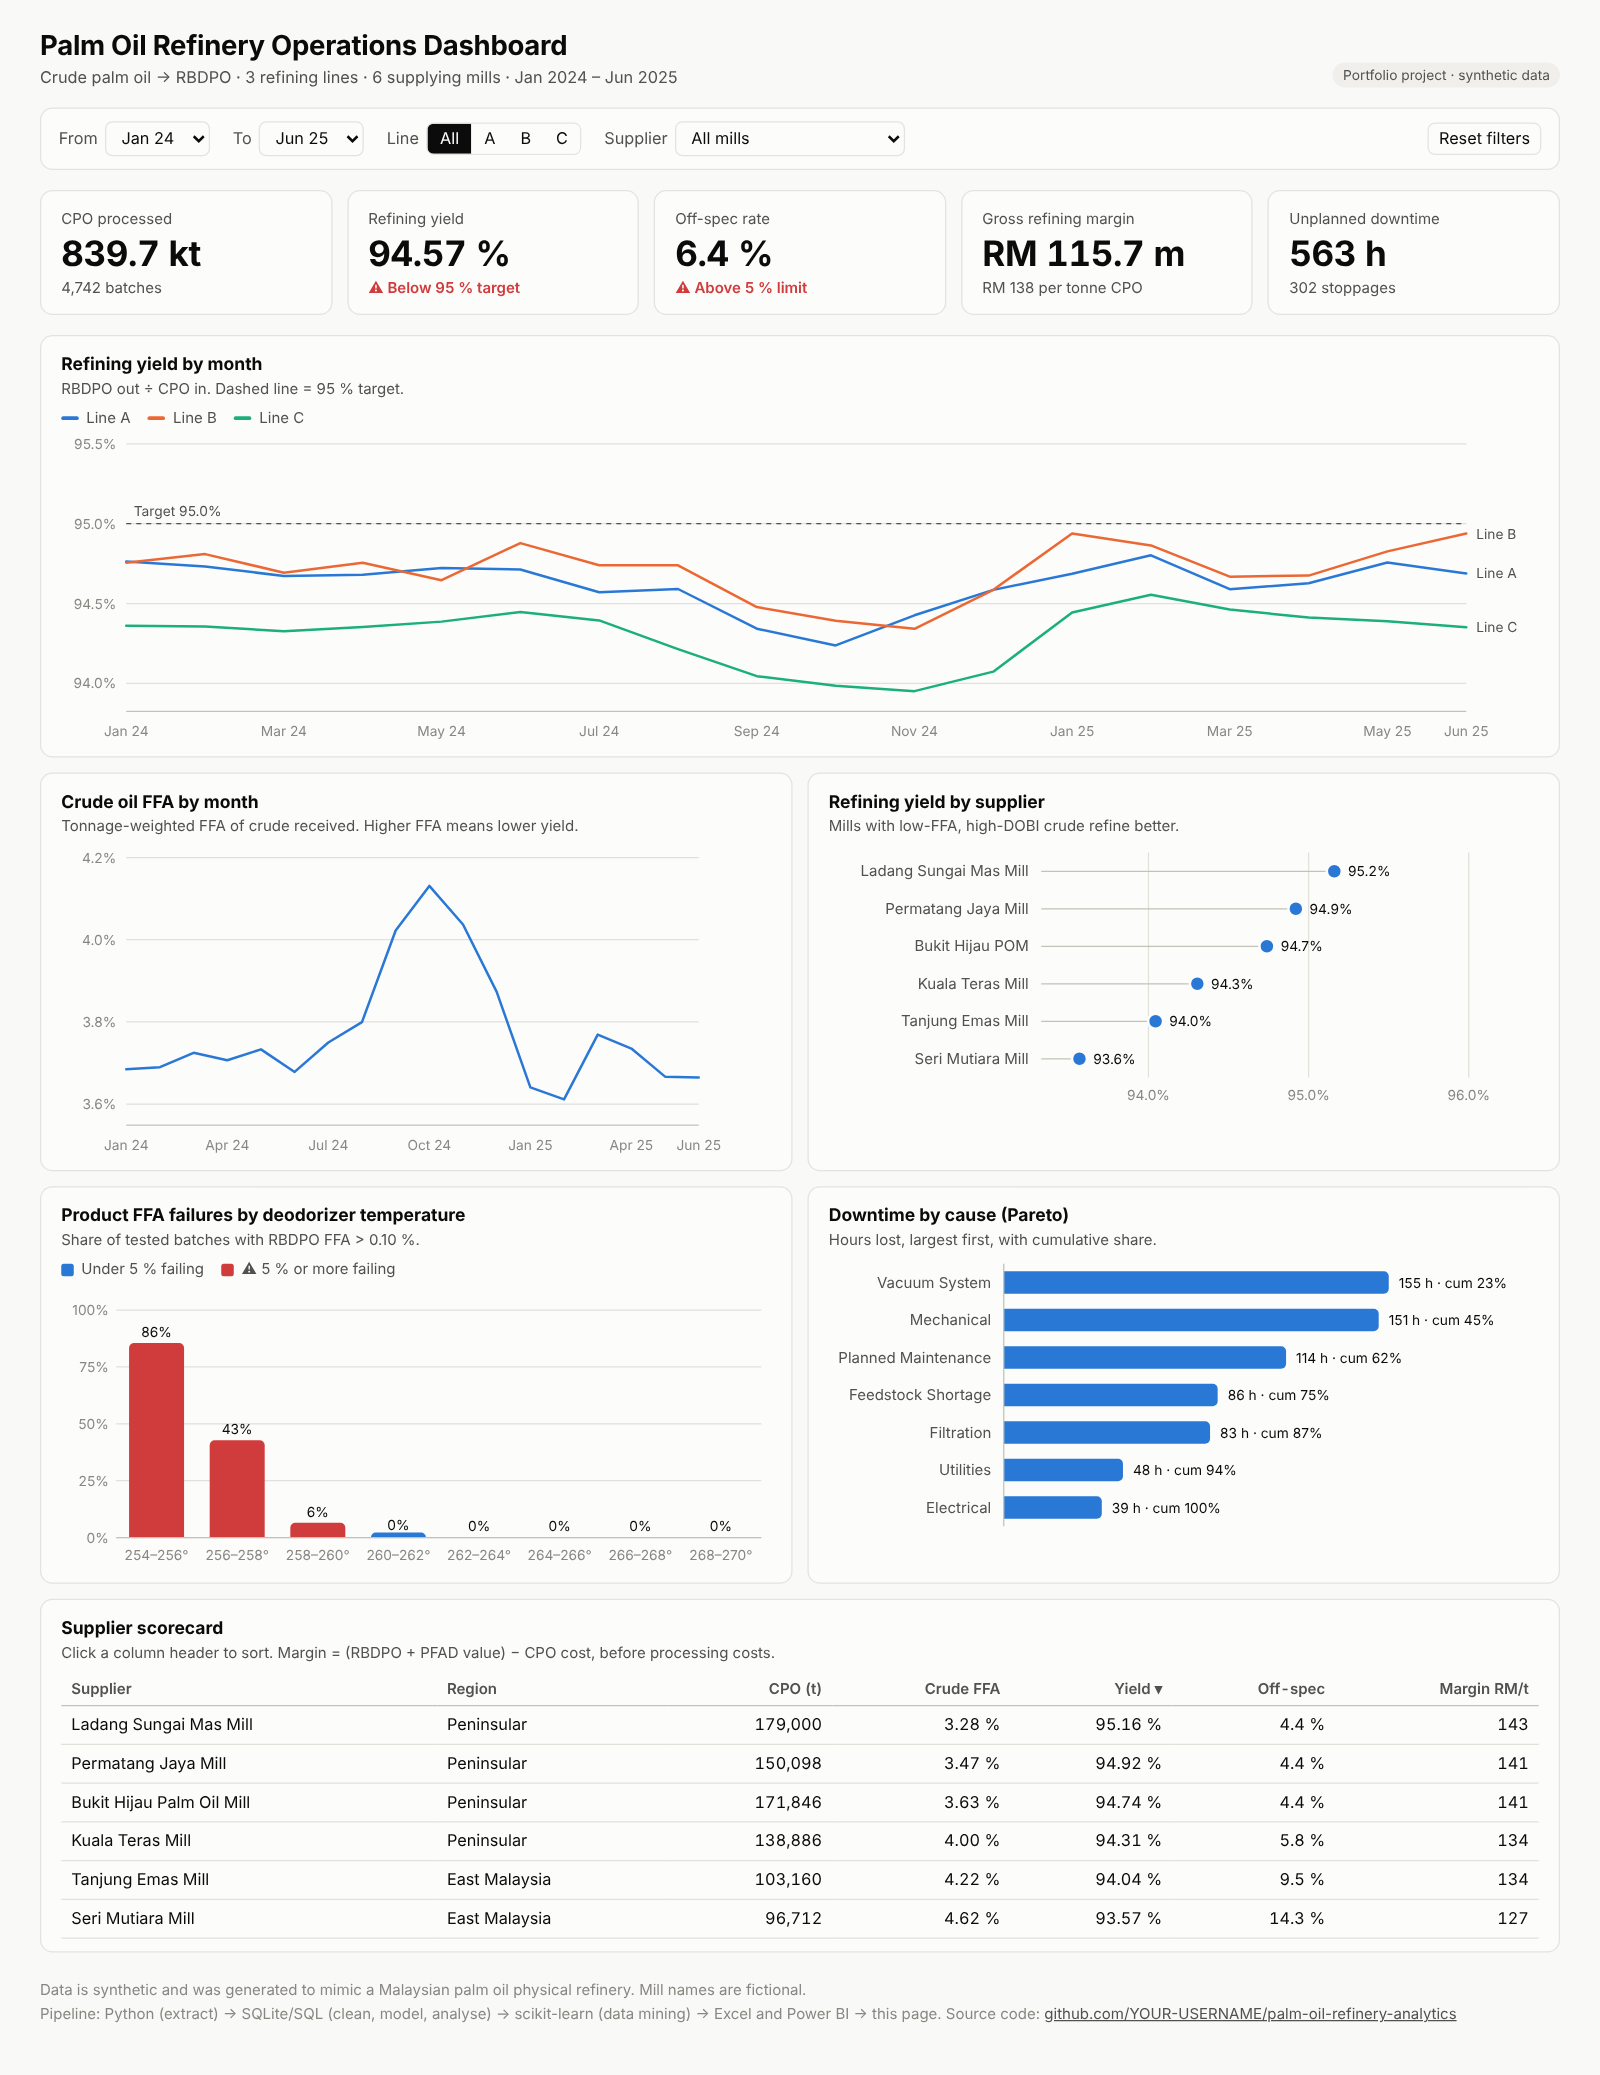

The page's visual inventory and layout, read from the dashboard file:
{"tool":"powerbi","page":{"name":"Executive Overview","canvas":[1920,1080],"ordinal":0},"visuals":[{"type":"slicer","fields":{"Values":["dim_date.date_key"]},"box":[32.4,194.6,327,175.7],"z":0},{"type":"slicer","fields":{"Values":["dim_line.line_name"]},"box":[32.4,405.4,327,278.4],"z":1000},{"type":"slicer","fields":{"Values":["dim_supplier.supplier_name"]},"box":[32.4,716.2,327,364.9],"z":2000},{"type":"cardVisual","fields":{"Data":["_Measures.CPO Processed (t)"]},"box":[32.4,0,327,167.6],"z":3000},{"type":"cardVisual","fields":{"Data":["_Measures.Unplanned Downtime Hours"]},"box":[1556.8,0,337.8,167.6],"z":4000},{"type":"cardVisual","fields":{"Data":["_Measures.Refining Yield %"]},"box":[413.5,0,327,167.6],"z":5000},{"type":"cardVisual","fields":{"Data":["_Measures.Off-spec Rate %"]},"box":[794.6,0,327,167.6],"z":6000},{"type":"cardVisual","fields":{"Data":["_Measures.Gross Refining Margin (MYR)"]},"box":[1175.7,0,337.8,167.6],"z":7000},{"type":"lineChart","title":"Yield dips in peak crop season; Line C always lowest","fields":{"Category":["dim_date.year_month"],"Series":["dim_line.line_name"],"Y":["_Measures.Refining Yield %"]},"box":[378.4,194.6,1516.2,489.2],"z":8000},{"type":"clusteredBarChart","title":"Only the lowest-FFA mill beats the 95 % yield target","fields":{"Category":["dim_supplier.supplier_name"],"Y":["_Measures.Yield vs Target (pts)"]},"box":[378.4,716.2,721.6,364.9],"z":9000},{"type":"clusteredBarChart","title":"Vacuum and mechanical faults lead downtime","fields":{"Category":["fact_downtime.category"],"Y":["_Measures.Downtime Hours"]},"box":[1137.8,716.2,756.8,364.9],"z":10000}]}

Visuals, with their boxes on the page's 1920x1080 design canvas (x1, y1, x2, y2). These are canvas units, not pixel positions in the 1600x2075 screenshot, which may show the page scaled, cropped or inside an application window:
slicer - dim_date.date_key: locate(32, 195, 359, 370)
slicer - dim_line.line_name: locate(32, 405, 359, 684)
slicer - dim_supplier.supplier_name: locate(32, 716, 359, 1081)
cardVisual - _Measures.CPO Processed (t): locate(32, 0, 359, 168)
cardVisual - _Measures.Unplanned Downtime Hours: locate(1557, 0, 1895, 168)
cardVisual - _Measures.Refining Yield %: locate(414, 0, 740, 168)
cardVisual - _Measures.Off-spec Rate %: locate(795, 0, 1122, 168)
cardVisual - _Measures.Gross Refining Margin (MYR): locate(1176, 0, 1514, 168)
"Yield dips in peak crop season; Line C always lowest" lineChart: locate(378, 195, 1895, 684)
"Only the lowest-FFA mill beats the 95 % yield target" clusteredBarChart: locate(378, 716, 1100, 1081)
"Vacuum and mechanical faults lead downtime" clusteredBarChart: locate(1138, 716, 1895, 1081)
